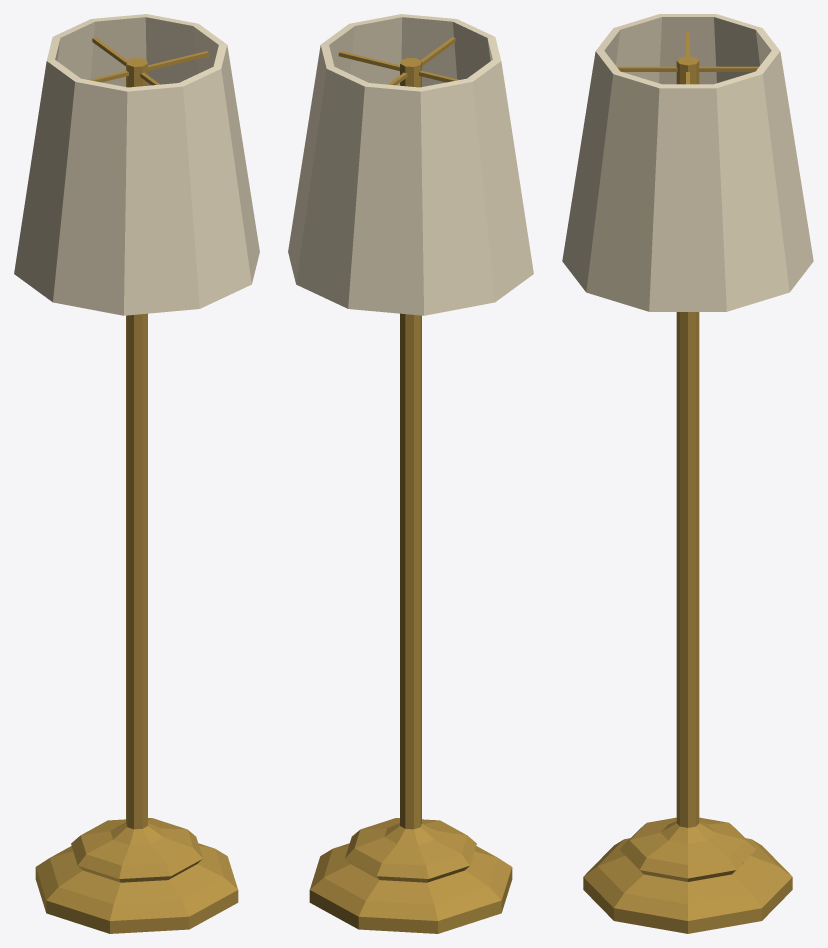
Rendered from cafe_floor_lamp.fbx.
3 views of the same model, side by side, from view 1: azimuth 30°, elevation 25°; view 2: azimuth 150°, elevation 25°; view 3: azimuth 270°, elevation 25° (orthographic).
Visible parts, largest first — view 1: cafe_floor_lamp; view 2: cafe_floor_lamp; view 3: cafe_floor_lamp.
Part boxes in pixels (box(x1,y1,x2,y2)): cafe_floor_lamp: box(14, 14, 259, 933); cafe_floor_lamp: box(288, 14, 533, 933); cafe_floor_lamp: box(562, 14, 813, 933).
Bounding box in the file's own units: 0.4392 × 1.7 × 0.4618.
Materials: 1 (1 with a texture image).
